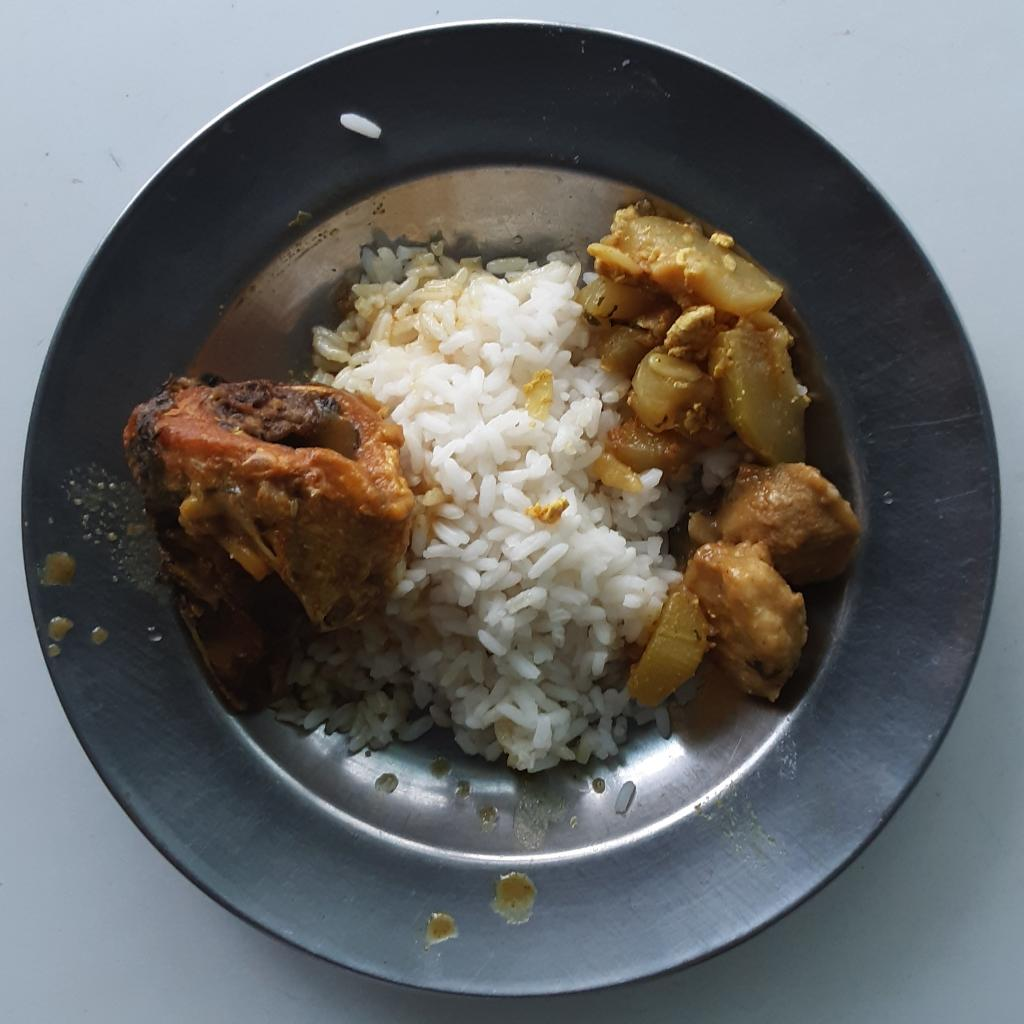egg: (662, 303, 728, 367)
fish: (121, 377, 412, 711)
kochu: (682, 460, 853, 708)
kumra-vaji: (579, 203, 820, 487), (625, 589, 704, 704)
rice: (275, 237, 771, 764)
